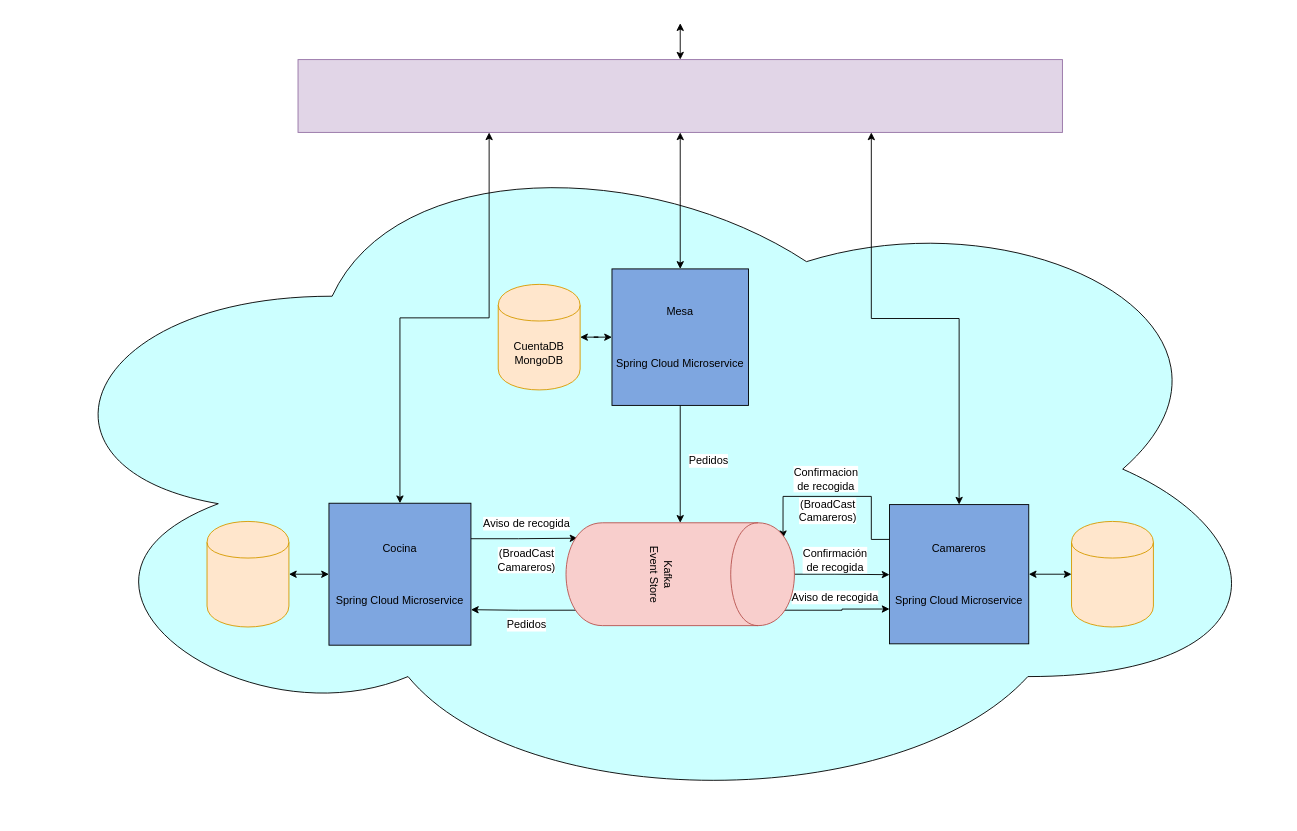
Image size: 1297x831. Some labels were removed from this diagram. The shapes that lost their labels are listed below. From the top down, each one's centre as x and y in pixels, then its label:
At (x=679, y=95): "API GateWay".
At (x=247, y=574): "MenuDB MongoDB".
At (x=1112, y=574): "Avisos MongoDB".
